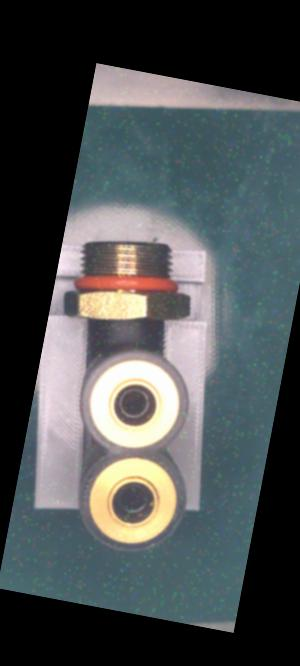joint line: (122, 321, 132, 344)
